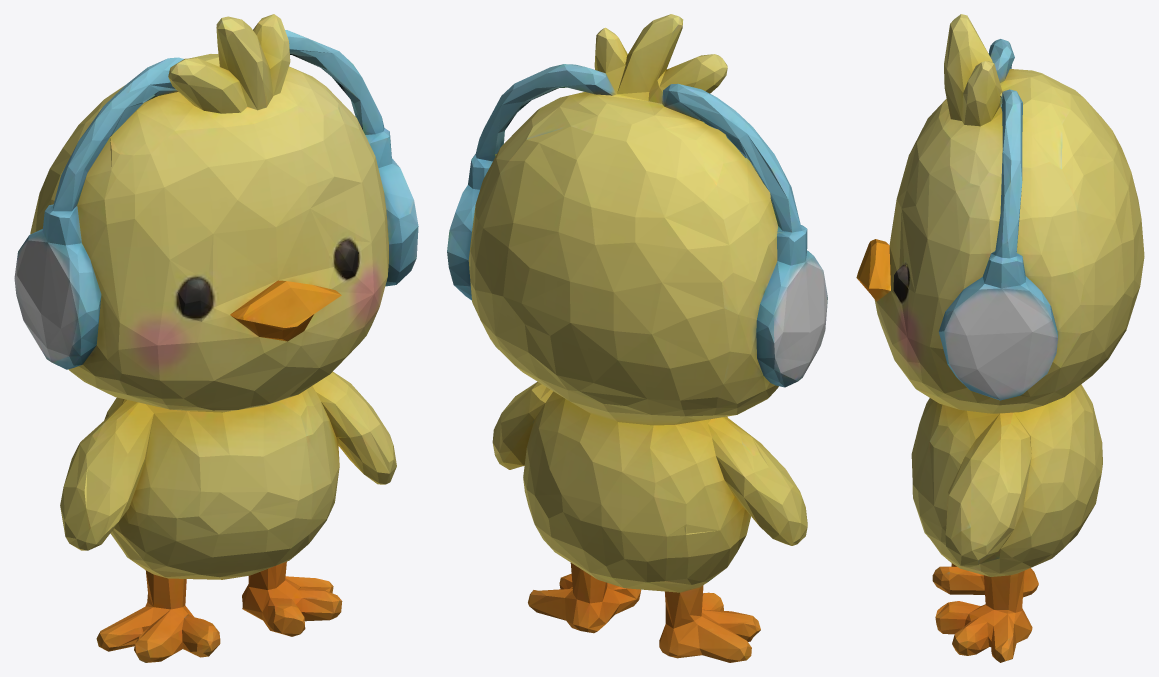
File: piyo.glb
The picture shows the model from 3 angles, left to right: view 1: azimuth 30°, elevation 25°; view 2: azimuth 150°, elevation 25°; view 3: azimuth 270°, elevation 25°; orthographic projection. The views are drawn at different scales.
Visible parts, largest first — view 1: geometry_0; view 2: geometry_0; view 3: geometry_0.
Part boxes in pixels (box(x1,y1,x2,y2)): geometry_0: box(14, 14, 418, 662); geometry_0: box(447, 14, 827, 662); geometry_0: box(856, 14, 1144, 662).
Bounding box in the file's own units: 0.5858 × 0.9998 × 0.4399.
1 material, 1 textured.
